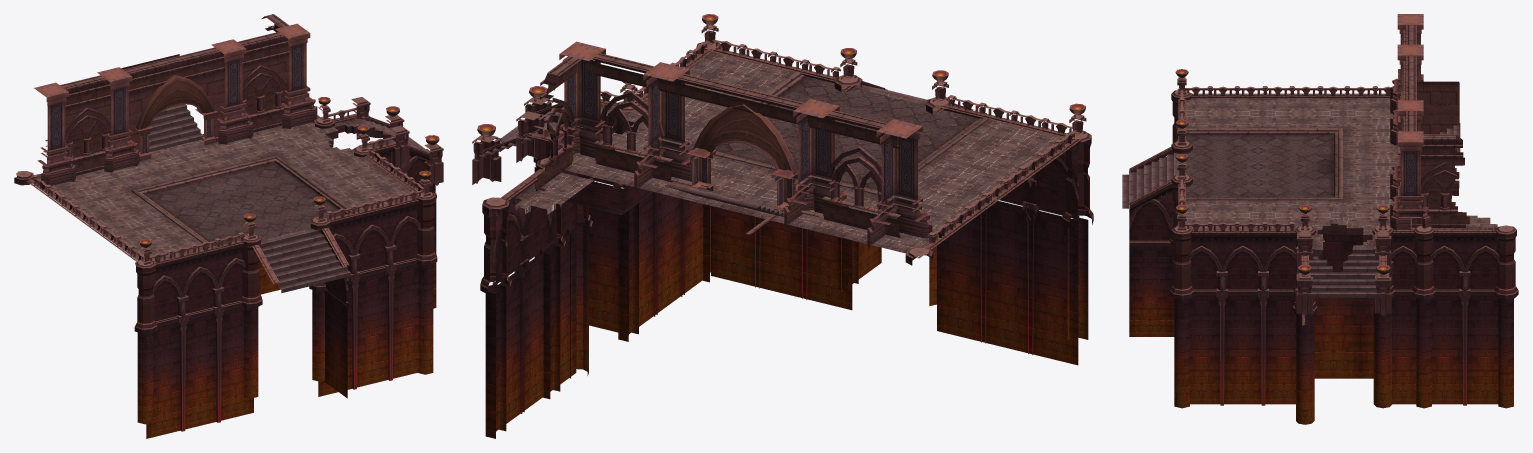
The model's file is Dungeons_03_02_01.FBX.
The picture shows the model from 3 angles, left to right: view 1: azimuth 30°, elevation 25°; view 2: azimuth 150°, elevation 25°; view 3: azimuth 270°, elevation 25°; orthographic projection. The views are drawn at different scales.
Parts seen in each view (by area): view 1: Object041; view 2: Object041; view 3: Object041.
Boxes of the visible parts, x1,y1,x2,y2 form: Object041: [14, 14, 443, 438]; Object041: [472, 14, 1093, 438]; Object041: [1122, 14, 1518, 424].
Size of the model in its own units: 449 by 304 by 421.
